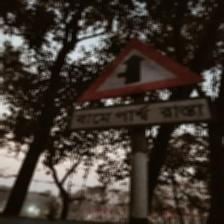Side-road-left: (70, 37, 209, 131)
